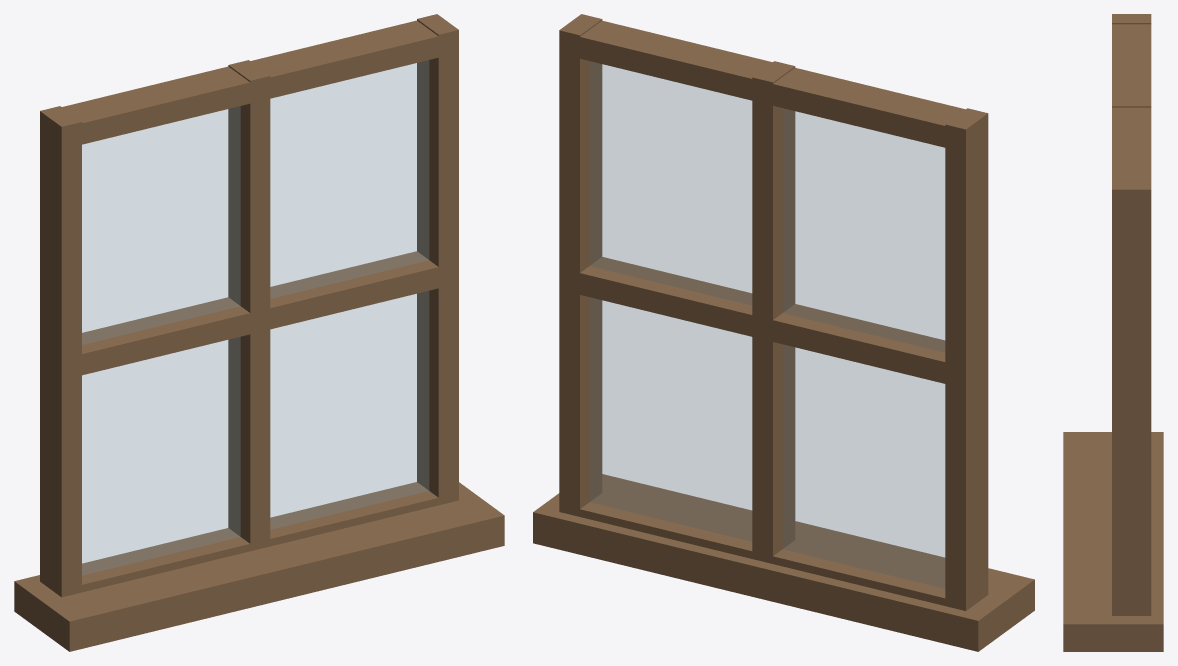
File: window.glb
3 views of the same model, side by side, from view 1: azimuth 30°, elevation 25°; view 2: azimuth 150°, elevation 25°; view 3: azimuth 270°, elevation 25° (orthographic). The views are drawn at different scales.
Visible parts, largest first — view 1: Оконная рама; view 2: Оконная рама; view 3: Оконная рама.
Boxes of the visible parts, x1,y1,x2,y2 form: Оконная рама: (14, 14, 504, 651); Оконная рама: (533, 14, 1034, 651); Оконная рама: (1063, 14, 1163, 651).
Bounding box in the file's own units: 1.5 × 1.65 × 0.33.
